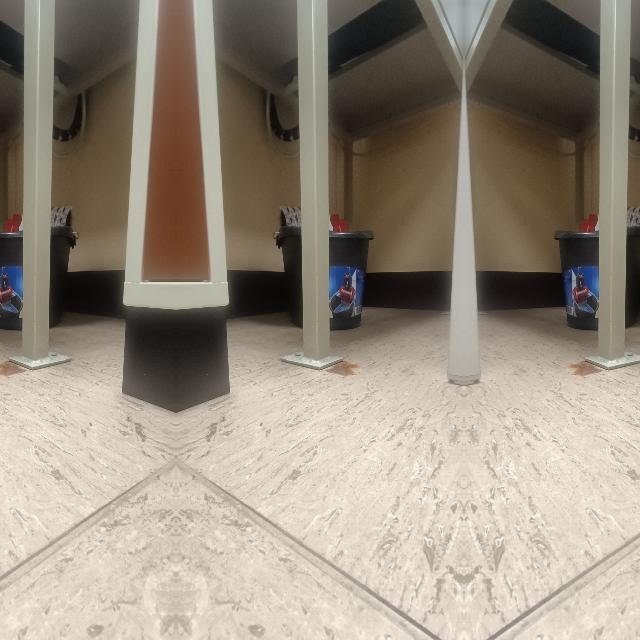obstacle: (278, 202, 348, 374), (2, 202, 72, 374), (175, 218, 231, 414), (119, 218, 175, 414), (579, 201, 640, 374), (446, 272, 464, 386), (464, 272, 481, 386)
